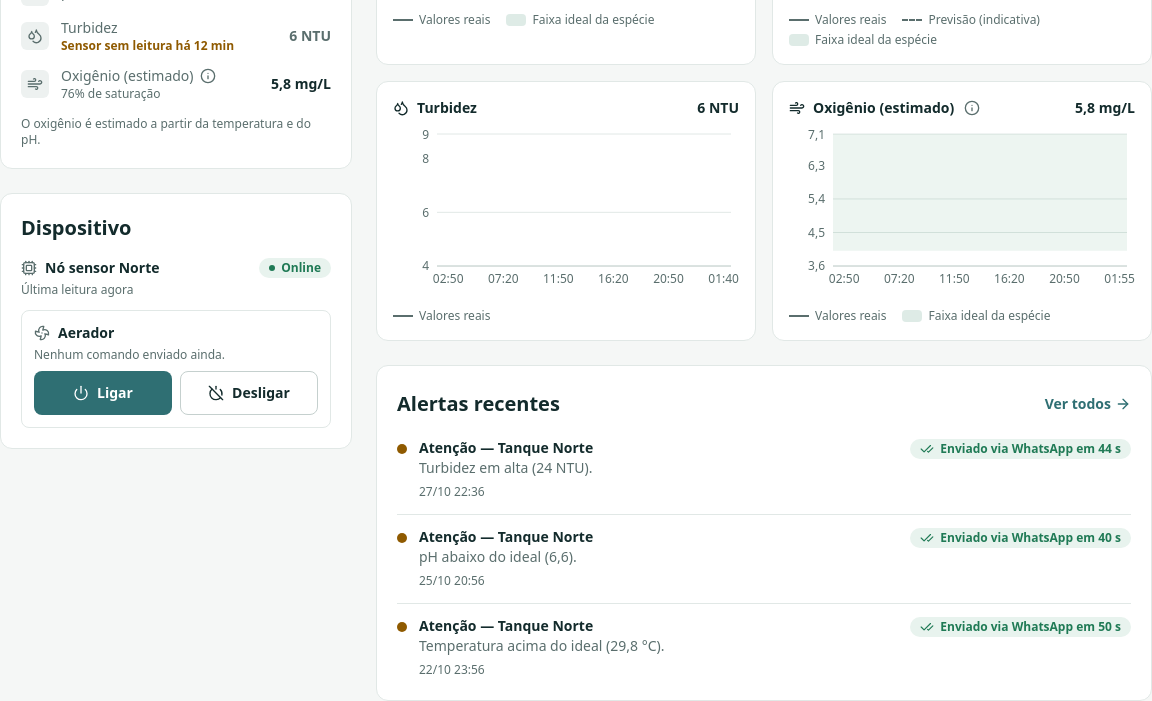
it: aerador (F-02) › avisa quando a API não consegue entregar o comando ao broker (503)
(page scrolled)
Click the button "Ligar".
click(103, 393)  # box [34, 371, 172, 415]
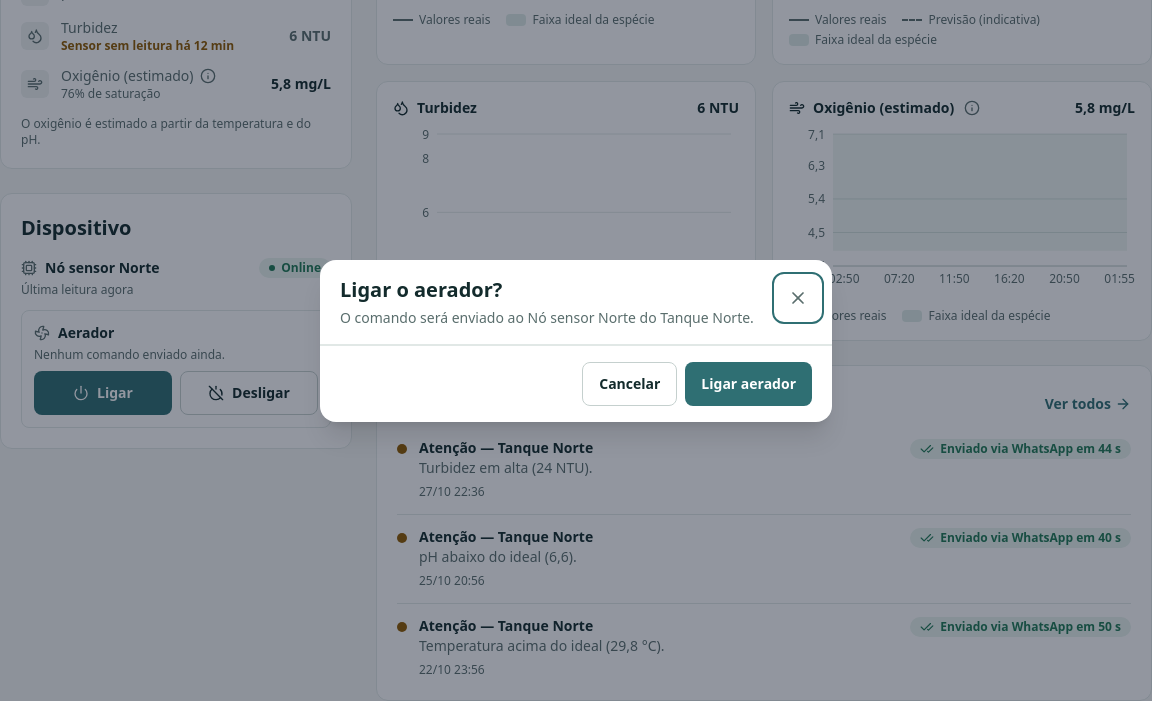
Click the button "Ligar aerador".
click(749, 384)  # box [685, 362, 812, 406]
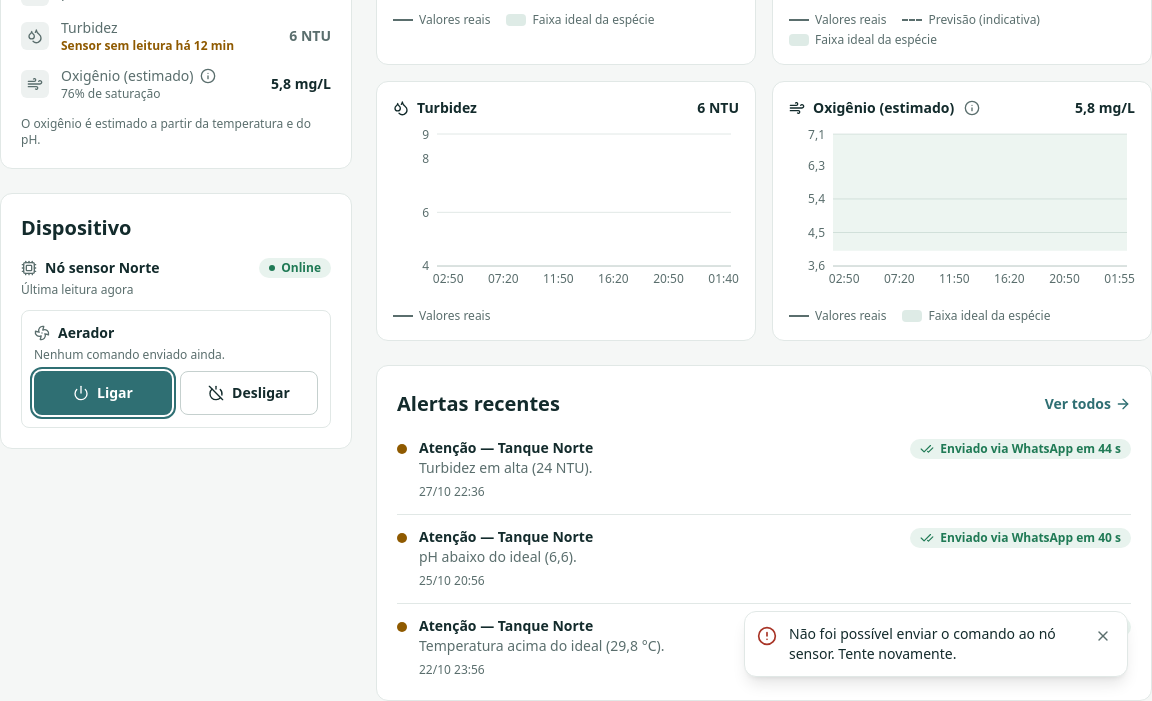
Expected: the text "Nenhum comando enviado ainda." is shown, [34, 346, 225, 363]
Now the text "Não foi possível enviar o comando ao nó sensor. Tente novamente." is shown, box [789, 624, 1079, 664]
